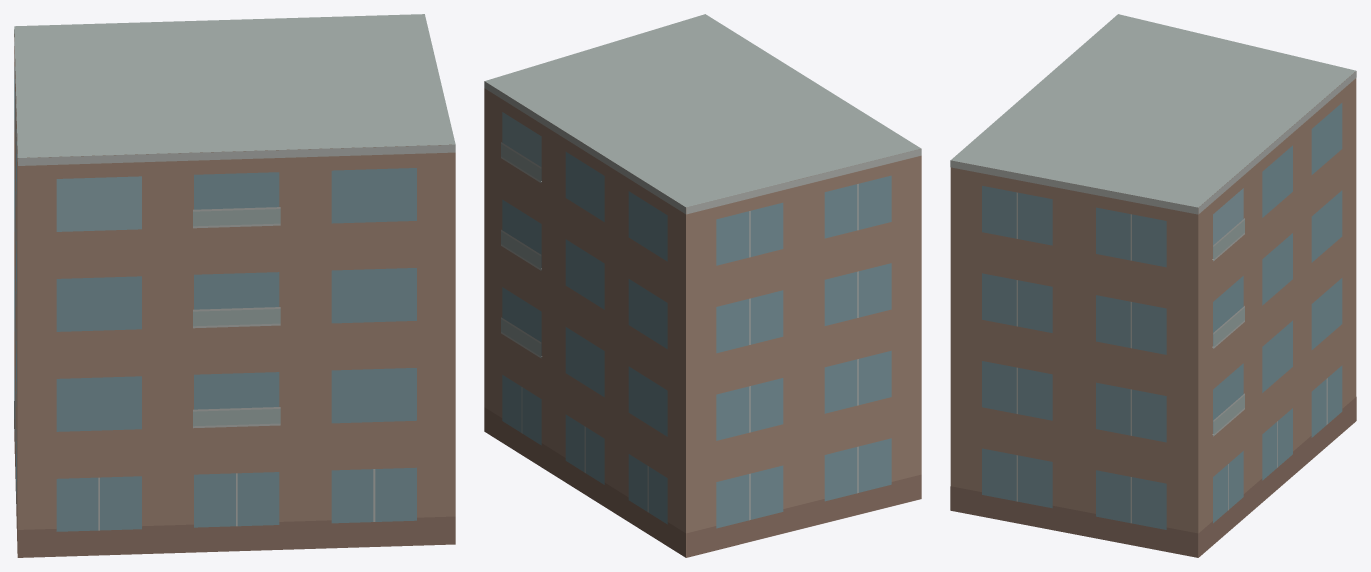
Rendered from survey-upis-32951073.glb.
The picture shows the model from 3 angles, left to right: view 1: azimuth 30°, elevation 25°; view 2: azimuth 150°, elevation 25°; view 3: azimuth 270°, elevation 25°; orthographic projection. The views are drawn at different scales.
Visible parts, largest first — view 1: survey-upis-32951073.tmp; view 2: survey-upis-32951073.tmp; view 3: survey-upis-32951073.tmp.
Boxes of the visible parts, left/top/right/bottom form: survey-upis-32951073.tmp: left=14, top=14, right=455, bottom=557; survey-upis-32951073.tmp: left=484, top=14, right=921, bottom=557; survey-upis-32951073.tmp: left=950, top=14, right=1356, bottom=557.
Bounding box in the file's own units: 14.47 × 12.2 × 12.83.
